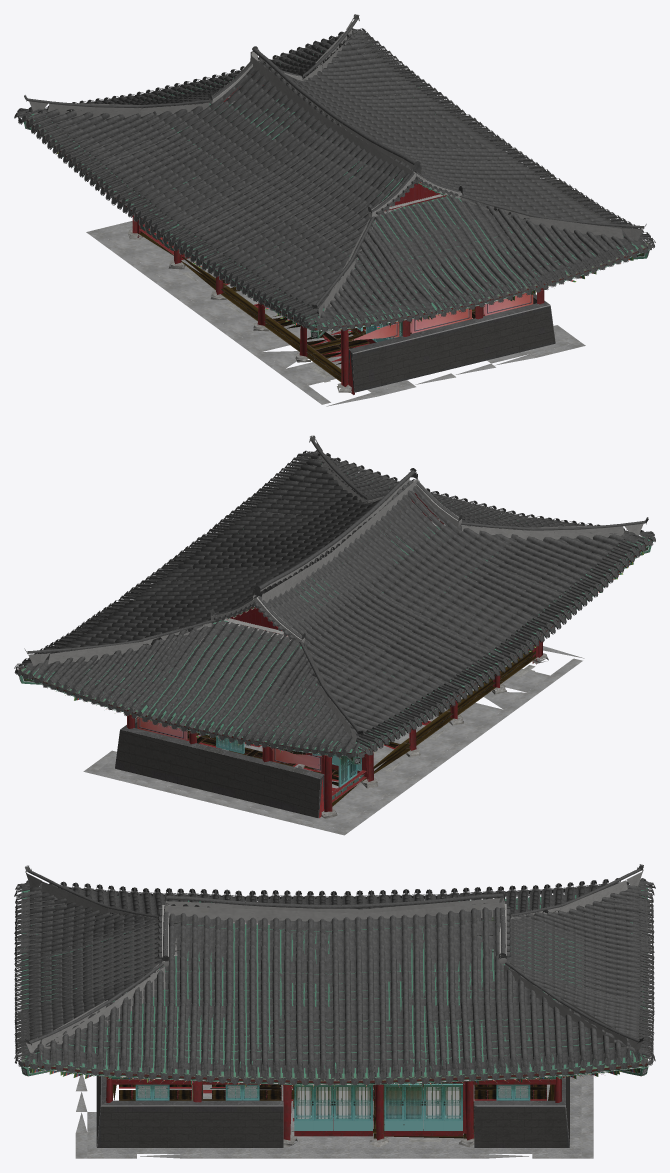
File: yeongju.glb
3 views of the same model, one above another, from view 1: azimuth 30°, elevation 25°; view 2: azimuth 150°, elevation 25°; view 3: azimuth 270°, elevation 25° (orthographic). The views are drawn at different scales.
Visible parts, largest first — view 1: 10_Yeongjuhyupdang, 10_Yeongjuhyupdang_pasted__lambert15_0.001, 10_Yeongjuhyupdang_pasted__lambert6_0.001, 10_Yeongjuhyupdang_pasted__lambert3_0.001, 10_Yeongjuhyupdang_pasted___Sugiwa_265k_0.001, 10_Yeongjuhyupdang_pasted__lambert4_0.001; view 2: 10_Yeongjuhyupdang, 10_Yeongjuhyupdang_pasted__lambert15_0.001, 10_Yeongjuhyupdang_pasted__lambert4_0.001, 10_Yeongjuhyupdang_pasted__lambert6_0.001, 10_Yeongjuhyupdang_pasted___Sugiwa_265k_0.001, 10_Yeongjuhyupdang_pasted__lambert3_0.001; view 3: 10_Yeongjuhyupdang, 10_Yeongjuhyupdang_pasted__lambert15_0.001, 10_Yeongjuhyupdang_Mat_Door01_0.004, 10_Yeongjuhyupdang_Mat_Door01_0.003, 10_Yeongjuhyupdang_pasted__lambert6_0.001, 10_Yeongjuhyupdang_pasted__lambert3_0.001, 10_Yeongjuhyupdang_pasted__lambert4_0.001, 10_Yeongjuhyupdang_pasted___Sugiwa_265k_0.001.
Boxes of the visible parts, x1=… form: 10_Yeongjuhyupdang: x1=17, y1=14, x2=655, y2=406; 10_Yeongjuhyupdang_pasted__lambert15_0.001: x1=32, y1=30, x2=493, y2=228; 10_Yeongjuhyupdang_pasted__lambert6_0.001: x1=196, y1=77, x2=596, y2=308; 10_Yeongjuhyupdang_pasted__lambert3_0.001: x1=18, y1=30, x2=654, y2=331; 10_Yeongjuhyupdang_pasted___Sugiwa_265k_0.001: x1=27, y1=18, x2=461, y2=212; 10_Yeongjuhyupdang_pasted__lambert4_0.001: x1=14, y1=31, x2=652, y2=330; 10_Yeongjuhyupdang: x1=14, y1=435, x2=653, y2=835; 10_Yeongjuhyupdang_pasted__lambert15_0.001: x1=27, y1=548, x2=503, y2=742; 10_Yeongjuhyupdang_pasted__lambert4_0.001: x1=28, y1=450, x2=655, y2=757; 10_Yeongjuhyupdang_pasted__lambert6_0.001: x1=180, y1=476, x2=522, y2=675; 10_Yeongjuhyupdang_pasted___Sugiwa_265k_0.001: x1=27, y1=479, x2=458, y2=732; 10_Yeongjuhyupdang_pasted__lambert3_0.001: x1=18, y1=451, x2=654, y2=758; 10_Yeongjuhyupdang: x1=14, y1=864, x2=655, y2=1158; 10_Yeongjuhyupdang_pasted__lambert15_0.001: x1=159, y1=882, x2=638, y2=1072; 10_Yeongjuhyupdang_Mat_Door01_0.004: x1=294, y1=1083, x2=462, y2=1130; 10_Yeongjuhyupdang_Mat_Door01_0.003: x1=313, y1=1085, x2=372, y2=1130; 10_Yeongjuhyupdang_pasted__lambert6_0.001: x1=17, y1=915, x2=539, y2=1036; 10_Yeongjuhyupdang_pasted__lambert3_0.001: x1=14, y1=880, x2=653, y2=1084; 10_Yeongjuhyupdang_pasted__lambert4_0.001: x1=15, y1=878, x2=655, y2=1062; 10_Yeongjuhyupdang_pasted___Sugiwa_265k_0.001: x1=163, y1=868, x2=641, y2=1042.
Size of the model in its own units: 14.41 by 7.26 by 21.
Materials: 43 (43 with a texture image).
